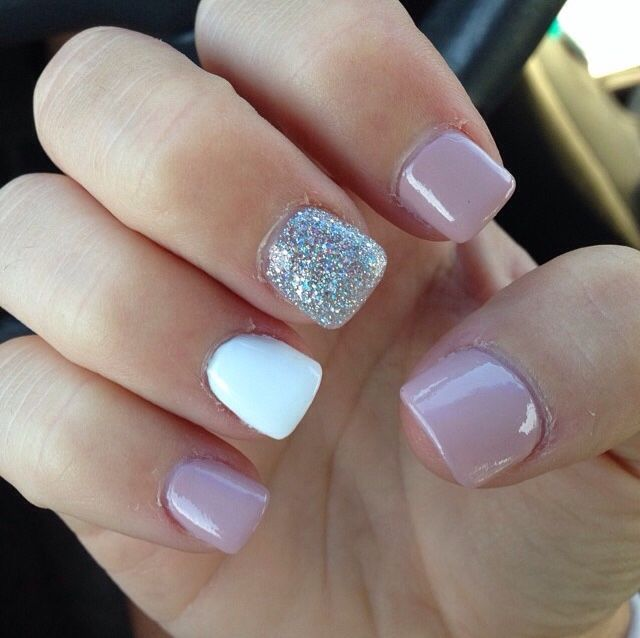nails: (394, 341, 551, 495), (250, 196, 394, 334), (198, 323, 328, 446), (390, 126, 520, 244), (154, 452, 277, 556)
